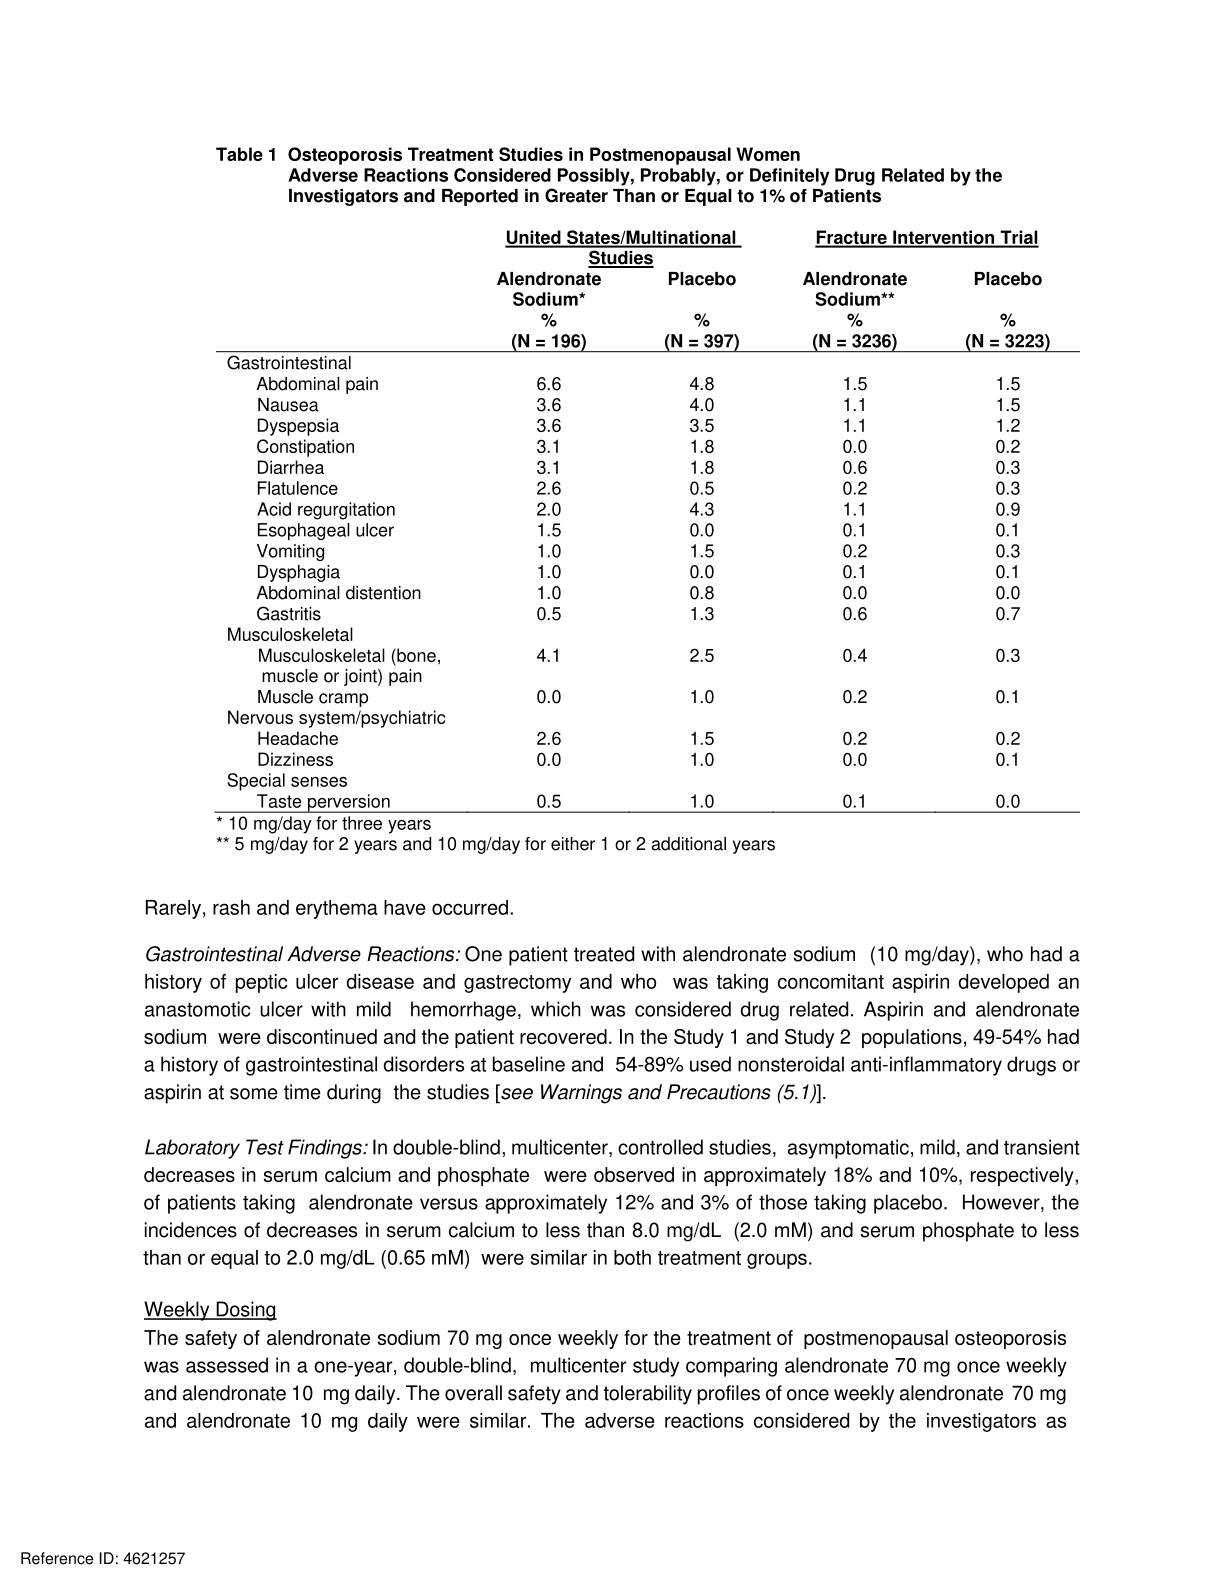partial_lined_merged_cells: (212, 222, 1077, 815)
